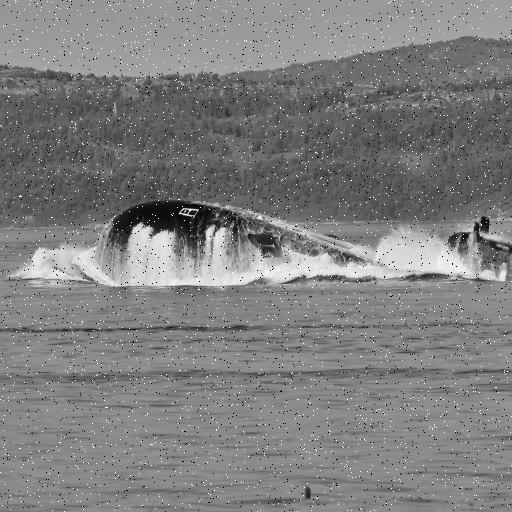submarine: (63, 195, 512, 301)
